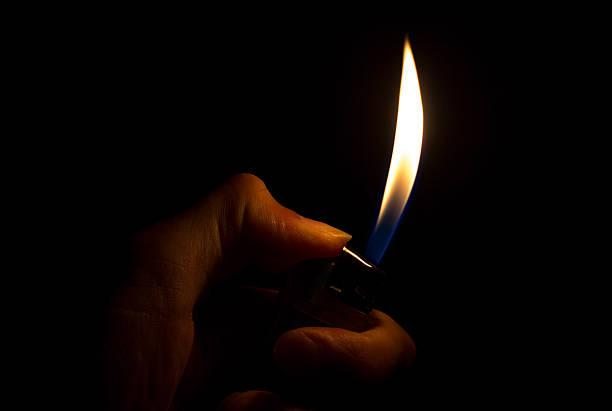Fire: (358, 33, 428, 261)
